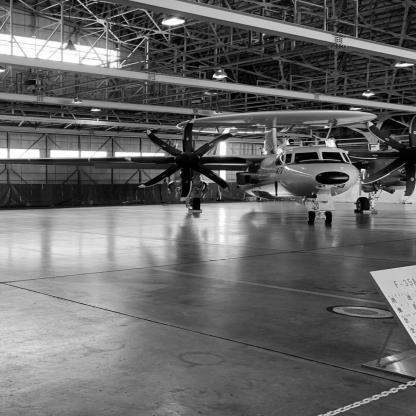E2: (2, 110, 416, 225)
